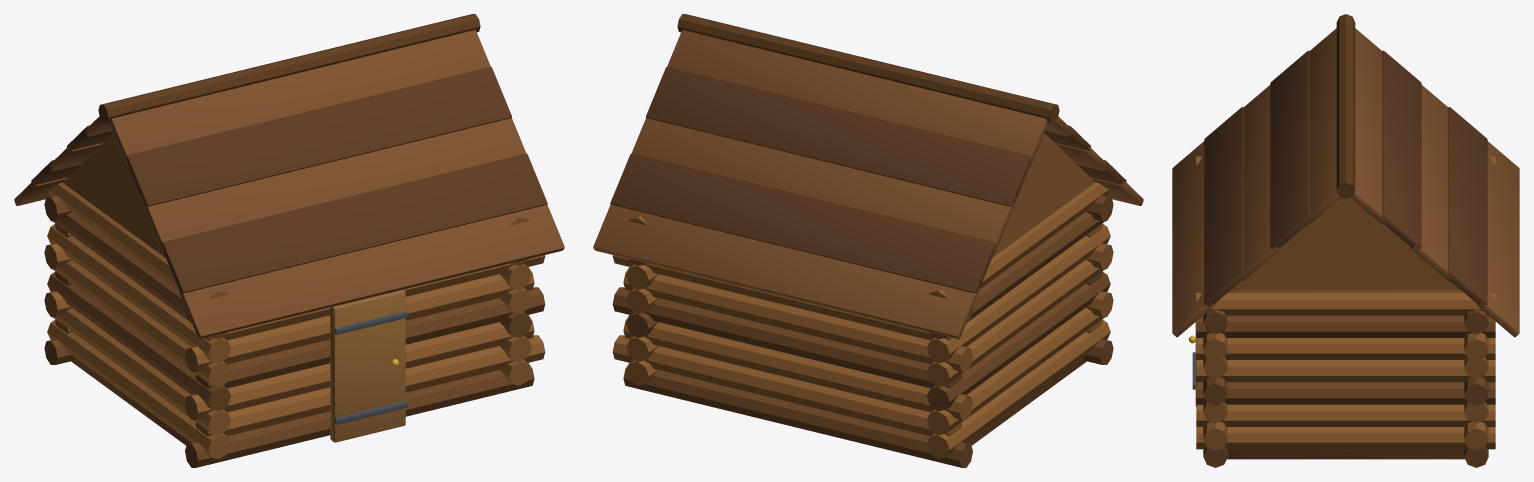
The model's file is budynek_glowny_poz01.glb.
3 views of the same model, side by side, from view 1: azimuth 30°, elevation 25°; view 2: azimuth 150°, elevation 25°; view 3: azimuth 270°, elevation 25° (orthographic). The views are drawn at different scales.
Parts seen in each view (by area): view 1: budynek_glowny_poz01; view 2: budynek_glowny_poz01; view 3: budynek_glowny_poz01.
Part boxes in pixels (x1,y1,x2,y2): budynek_glowny_poz01: (14, 14, 564, 467); budynek_glowny_poz01: (593, 14, 1143, 467); budynek_glowny_poz01: (1172, 14, 1519, 467).
Size of the model in its own units: 5.2 by 4.22 by 4.53.
